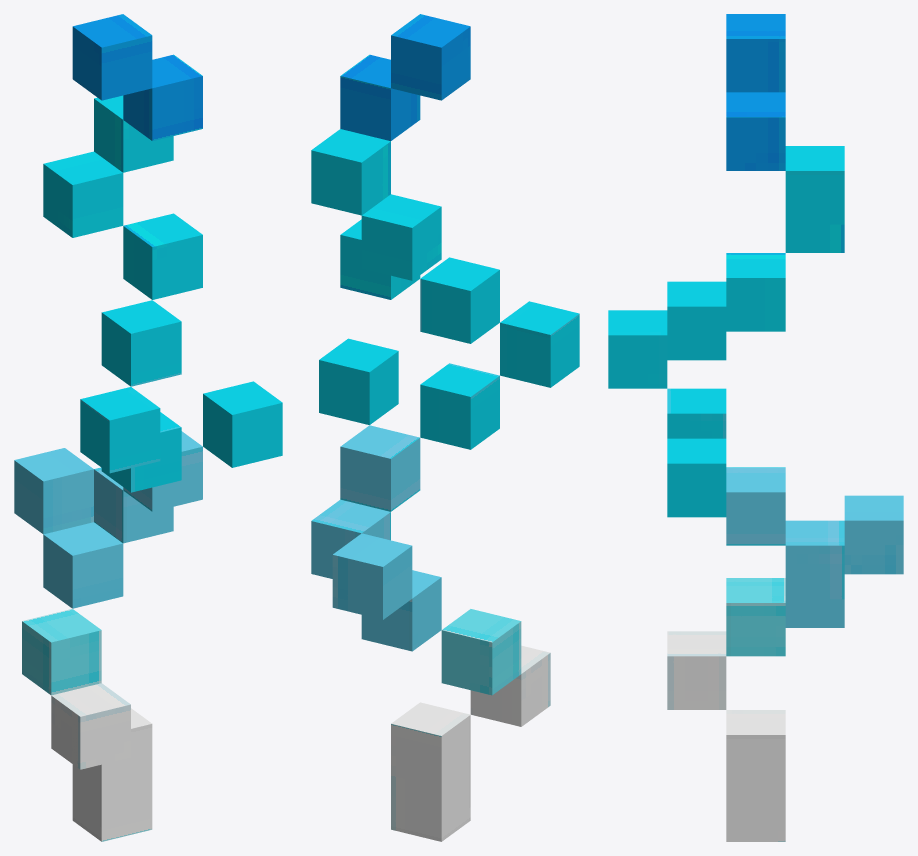
File: Tesla_Bullet_01.FBX
3 views of the same model, side by side, from view 1: azimuth 30°, elevation 25°; view 2: azimuth 150°, elevation 25°; view 3: azimuth 270°, elevation 25° (orthographic).
Parts seen in each view (by area): view 1: Tesla_Bullet_01; view 2: Tesla_Bullet_01; view 3: Tesla_Bullet_01.
Part boxes in pixels (x1,y1,x2,y2): Tesla_Bullet_01: (14,14,282,841); Tesla_Bullet_01: (311,14,579,841); Tesla_Bullet_01: (608,14,903,841).
Bounding box in the file's own units: 40 × 150 × 50.
